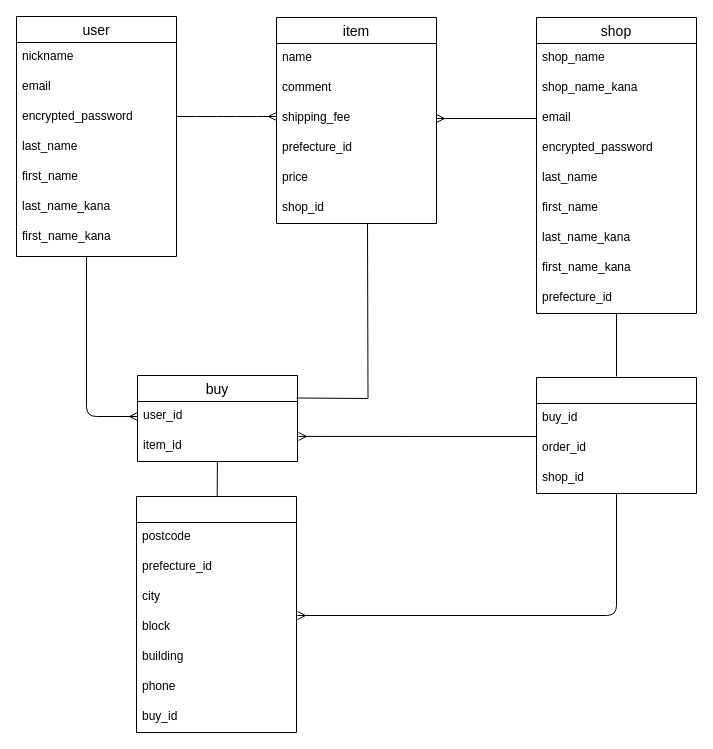
This 713x749 diagram has some shape labels left out. The shapes that lost their labels are listed below. From the top down, each one's box as (x1, y1, x2, y2) in pixels, then its label:
(536, 376, 696, 494): confirm
(136, 496, 296, 732): order
